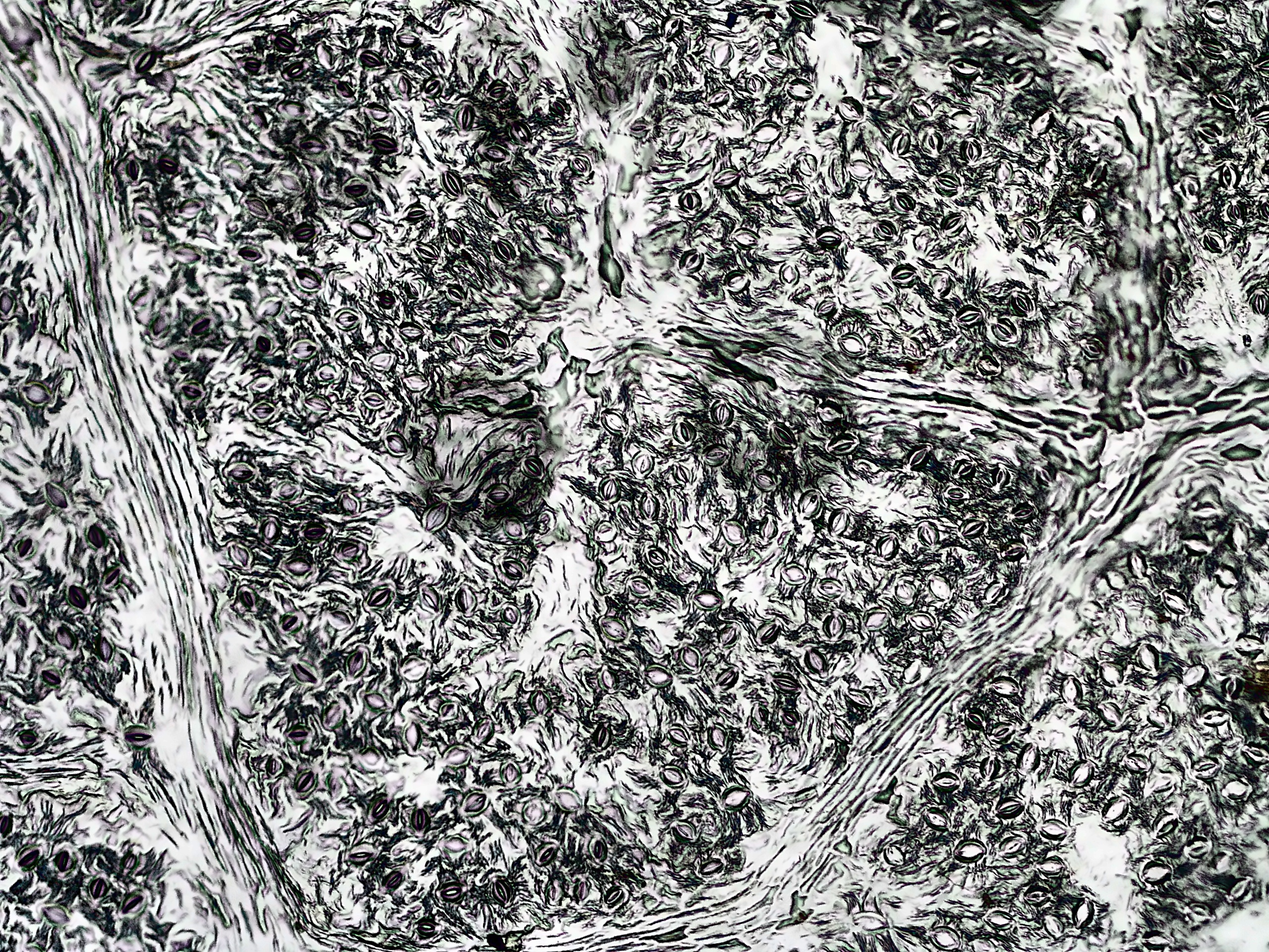stomata: (1150, 253, 1191, 294), (1053, 671, 1088, 707), (803, 645, 836, 681), (977, 907, 1026, 930), (766, 419, 800, 452), (1072, 195, 1104, 230), (593, 79, 628, 111), (766, 670, 807, 697), (846, 911, 889, 936), (824, 715, 861, 744), (917, 807, 958, 833), (419, 500, 452, 532), (497, 514, 531, 545), (320, 700, 349, 736), (638, 663, 674, 692), (220, 460, 258, 487), (354, 688, 395, 713), (703, 723, 735, 755), (857, 606, 890, 637), (1225, 520, 1254, 555), (300, 392, 337, 419), (925, 925, 962, 952), (899, 443, 931, 474), (1099, 795, 1132, 825), (1172, 355, 1205, 385), (1136, 639, 1162, 677), (1192, 116, 1230, 142), (550, 786, 582, 816), (1158, 588, 1191, 617), (1138, 927, 1176, 952), (951, 839, 989, 864), (1020, 886, 1058, 911), (905, 609, 940, 636), (952, 518, 993, 541), (716, 519, 748, 548), (1182, 895, 1214, 924), (1183, 495, 1221, 519), (825, 431, 860, 457), (992, 795, 1027, 821), (343, 842, 379, 867), (597, 614, 627, 644), (825, 508, 855, 538), (782, 0, 818, 25), (1141, 859, 1172, 888), (1230, 632, 1262, 660), (750, 467, 783, 494), (776, 182, 811, 207), (479, 482, 517, 505), (794, 488, 823, 518), (1096, 658, 1126, 687), (820, 613, 848, 644), (1010, 289, 1038, 320), (1214, 160, 1241, 192), (668, 818, 701, 844), (1033, 854, 1066, 880), (847, 23, 881, 48), (439, 168, 468, 197), (5, 580, 34, 609), (1151, 811, 1179, 841), (1218, 673, 1248, 701), (927, 572, 954, 603), (719, 784, 751, 810), (843, 687, 875, 713), (814, 398, 846, 424), (707, 40, 739, 66), (774, 563, 810, 586), (1222, 778, 1255, 803), (1190, 757, 1223, 782), (396, 657, 430, 681), (252, 296, 282, 323), (518, 797, 545, 827), (678, 645, 705, 675), (924, 271, 954, 298), (1039, 154, 1066, 184), (342, 646, 368, 677), (945, 110, 983, 131), (238, 374, 282, 392), (1074, 335, 1107, 359), (707, 399, 735, 427), (1083, 158, 1110, 187), (835, 95, 864, 122), (1025, 109, 1054, 136), (245, 401, 279, 424), (750, 121, 784, 144), (985, 675, 1022, 696), (410, 240, 441, 265), (998, 541, 1033, 563), (1018, 741, 1040, 776), (1072, 897, 1095, 930), (836, 333, 869, 356), (660, 763, 688, 790), (950, 456, 977, 484), (1069, 762, 1096, 790), (227, 541, 253, 570), (599, 409, 628, 435), (1039, 913, 1068, 939), (544, 195, 574, 220), (518, 455, 548, 480), (979, 581, 1009, 606), (400, 719, 422, 753), (1193, 38, 1227, 60), (951, 304, 985, 326), (491, 236, 518, 263), (595, 476, 622, 503), (292, 266, 320, 292), (893, 578, 919, 606), (873, 533, 899, 561), (630, 450, 656, 478), (1226, 876, 1252, 904), (931, 770, 964, 792), (130, 49, 159, 74), (442, 283, 471, 308), (585, 834, 610, 863), (755, 619, 780, 648), (218, 156, 248, 180), (714, 625, 744, 649), (699, 443, 729, 467), (1195, 707, 1231, 727), (280, 556, 314, 577), (240, 195, 271, 218), (1207, 90, 1238, 113), (710, 167, 741, 190), (292, 134, 324, 156), (21, 380, 48, 406), (290, 658, 317, 684), (497, 759, 524, 785), (712, 666, 739, 692), (1097, 700, 1124, 726), (617, 17, 644, 43), (462, 791, 490, 816), (488, 877, 513, 905), (917, 520, 942, 548), (977, 755, 1005, 780), (999, 834, 1027, 859), (1182, 536, 1210, 561), (1013, 219, 1041, 244), (869, 77, 897, 102), (927, 13, 962, 33), (946, 57, 981, 77), (44, 481, 68, 510), (592, 520, 621, 544), (346, 221, 379, 242), (438, 834, 471, 855), (624, 574, 654, 597), (1209, 565, 1239, 588), (287, 222, 318, 244), (941, 483, 972, 505), (784, 77, 815, 99), (1248, 284, 1268, 318), (1204, 0, 1230, 26), (670, 461, 695, 488), (1202, 229, 1227, 256), (471, 715, 495, 743), (874, 303, 903, 326), (476, 143, 509, 163), (440, 747, 473, 767), (1124, 752, 1154, 774), (727, 228, 760, 248), (288, 339, 319, 360), (845, 159, 876, 180), (418, 74, 443, 100), (416, 585, 441, 611), (64, 584, 89, 610), (367, 793, 392, 819), (406, 806, 431, 832), (507, 177, 535, 200), (15, 847, 43, 870), (1011, 502, 1039, 525), (959, 137, 982, 165), (331, 307, 360, 329), (597, 665, 619, 694), (1005, 67, 1034, 89), (168, 246, 203, 264), (433, 883, 468, 901), (1178, 661, 1203, 686), (236, 585, 260, 611), (672, 421, 696, 447), (657, 16, 683, 40), (665, 721, 692, 744), (1185, 836, 1212, 859), (678, 249, 705, 272), (797, 151, 820, 178), (649, 69, 676, 92), (339, 178, 370, 198), (383, 433, 411, 455), (497, 557, 525, 579), (989, 464, 1011, 492), (881, 845, 909, 867), (1127, 550, 1149, 578), (388, 70, 409, 99), (185, 316, 217, 335), (323, 608, 355, 627), (690, 591, 722, 610), (639, 491, 658, 523), (1180, 178, 1204, 203), (721, 270, 747, 293), (777, 262, 800, 288), (273, 172, 300, 194), (277, 100, 310, 118), (402, 371, 429, 393), (277, 611, 304, 633), (453, 585, 475, 612), (53, 624, 75, 651), (1038, 818, 1071, 836), (1147, 705, 1174, 727), (900, 337, 927, 359), (676, 190, 703, 212), (367, 134, 398, 153), (356, 747, 384, 768), (758, 513, 779, 541), (812, 296, 840, 317), (485, 328, 509, 352), (535, 842, 560, 865), (705, 88, 731, 110), (396, 321, 426, 340), (366, 351, 396, 370), (889, 265, 919, 284), (280, 60, 307, 81), (357, 48, 384, 69), (41, 904, 68, 925), (986, 722, 1013, 743), (579, 17, 599, 45), (41, 667, 65, 690), (590, 724, 613, 748), (292, 769, 314, 794), (939, 212, 964, 234), (358, 388, 385, 408), (124, 725, 151, 745), (94, 634, 114, 661), (0, 288, 15, 324), (281, 725, 311, 743), (542, 879, 562, 906), (641, 547, 668, 567), (1225, 198, 1245, 225), (976, 356, 1003, 376), (907, 98, 934, 118), (338, 493, 361, 516), (964, 707, 987, 730), (992, 317, 1015, 340), (894, 191, 917, 214), (317, 41, 339, 65), (121, 893, 145, 915), (100, 565, 122, 589), (529, 690, 551, 714), (454, 104, 475, 129), (816, 226, 841, 247), (412, 918, 438, 938), (435, 701, 461, 721), (698, 856, 724, 876), (625, 119, 651, 139), (993, 159, 1013, 185), (923, 131, 943, 157), (548, 94, 570, 117), (402, 203, 427, 223), (260, 517, 280, 542), (891, 132, 911, 157), (271, 33, 297, 52), (393, 29, 420, 47), (369, 290, 396, 308), (568, 153, 590, 175), (333, 76, 354, 99), (508, 120, 529, 143), (367, 588, 390, 609), (87, 524, 108, 547), (14, 535, 35, 558), (445, 221, 465, 245), (234, 245, 262, 262), (381, 868, 403, 889), (664, 129, 686, 150), (871, 221, 898, 238), (274, 481, 298, 500), (764, 52, 788, 71), (174, 202, 206, 216), (402, 278, 423, 299), (1247, 744, 1269, 764), (500, 602, 519, 625), (819, 578, 842, 597), (968, 938, 999, 952), (363, 104, 390, 120), (55, 849, 73, 873), (1154, 775, 1178, 793), (933, 177, 960, 193), (179, 384, 204, 401), (447, 336, 468, 356), (1213, 852, 1234, 872), (1035, 467, 1057, 486), (1250, 106, 1269, 128), (483, 80, 507, 97), (239, 58, 264, 74), (89, 878, 109, 898), (603, 886, 623, 906), (750, 704, 770, 724), (779, 708, 800, 727), (301, 524, 325, 540), (15, 730, 39, 746), (155, 155, 176, 173), (123, 159, 141, 180), (120, 853, 141, 871), (572, 879, 589, 901), (881, 56, 904, 72), (265, 756, 283, 776), (339, 542, 360, 559), (744, 76, 764, 93), (315, 364, 336, 380), (354, 400, 371, 419), (302, 494, 326, 507), (0, 813, 11, 835)
